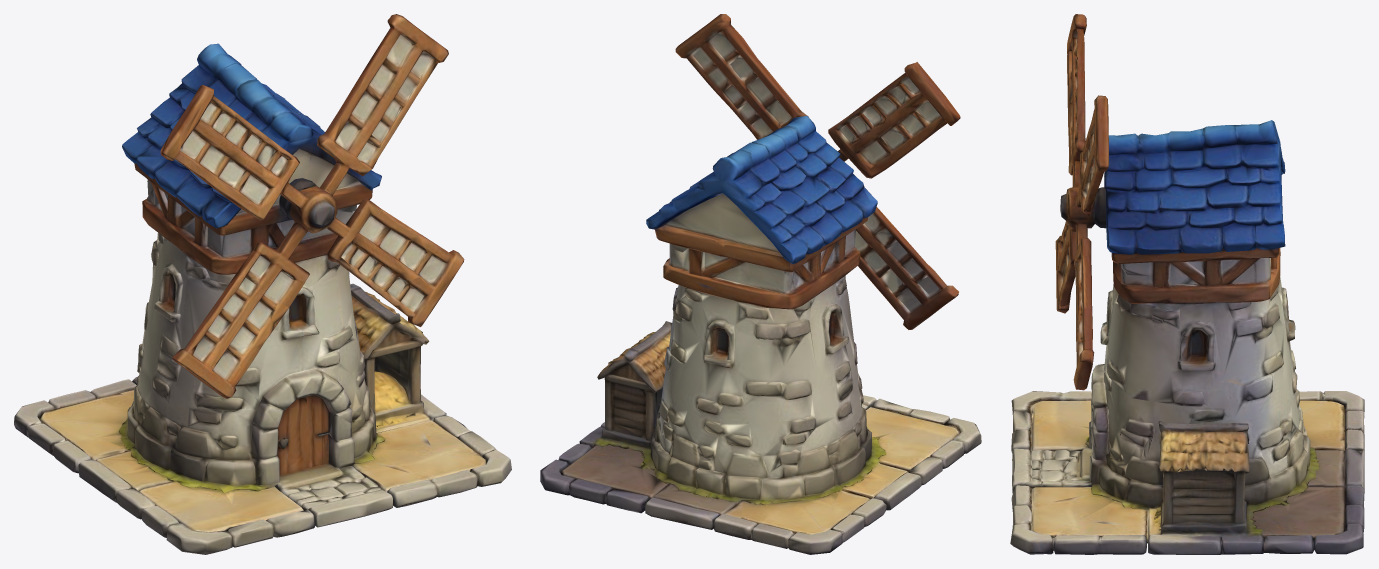
Rendered from windmill-mid.glb.
The picture shows the model from 3 angles, left to right: view 1: azimuth 30°, elevation 25°; view 2: azimuth 150°, elevation 25°; view 3: azimuth 270°, elevation 25°; orthographic projection. The views are drawn at different scales.
Parts seen in each view (by area): view 1: tripo_node_c4f8d6cc-7c40-4174-ace1-59bc56e6c0d0; view 2: tripo_node_c4f8d6cc-7c40-4174-ace1-59bc56e6c0d0; view 3: tripo_node_c4f8d6cc-7c40-4174-ace1-59bc56e6c0d0.
Boxes of the visible parts, box(x1,y1,x2,y2) form: tripo_node_c4f8d6cc-7c40-4174-ace1-59bc56e6c0d0: box(14, 14, 511, 554); tripo_node_c4f8d6cc-7c40-4174-ace1-59bc56e6c0d0: box(540, 14, 981, 554); tripo_node_c4f8d6cc-7c40-4174-ace1-59bc56e6c0d0: box(1010, 14, 1364, 554).
Bounding box in the file's own units: 0.7697 × 0.9986 × 0.7569.
1 material, 1 textured.
